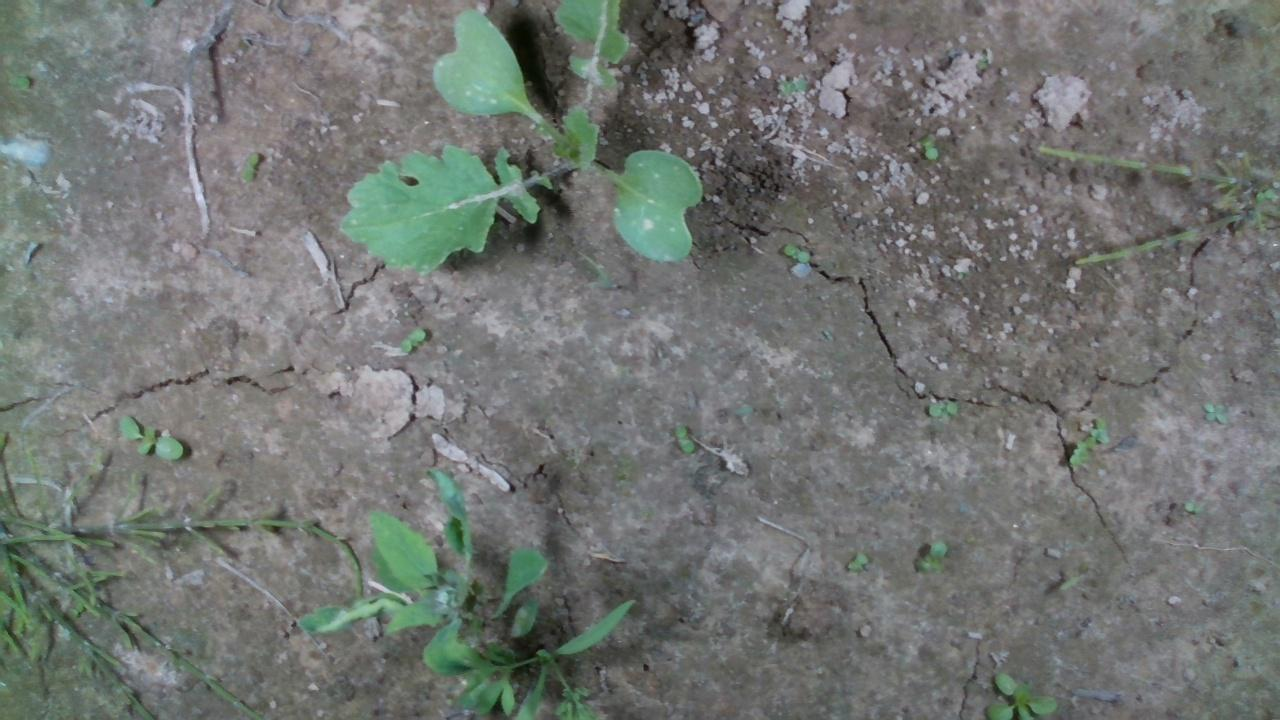weed: (117, 412, 183, 461), (912, 539, 948, 573), (924, 395, 958, 419), (398, 326, 425, 353), (780, 241, 810, 265), (672, 422, 693, 453), (1201, 401, 1227, 426), (916, 132, 938, 160), (241, 149, 259, 182), (846, 551, 867, 572), (8, 73, 33, 90), (1183, 500, 1204, 516)
